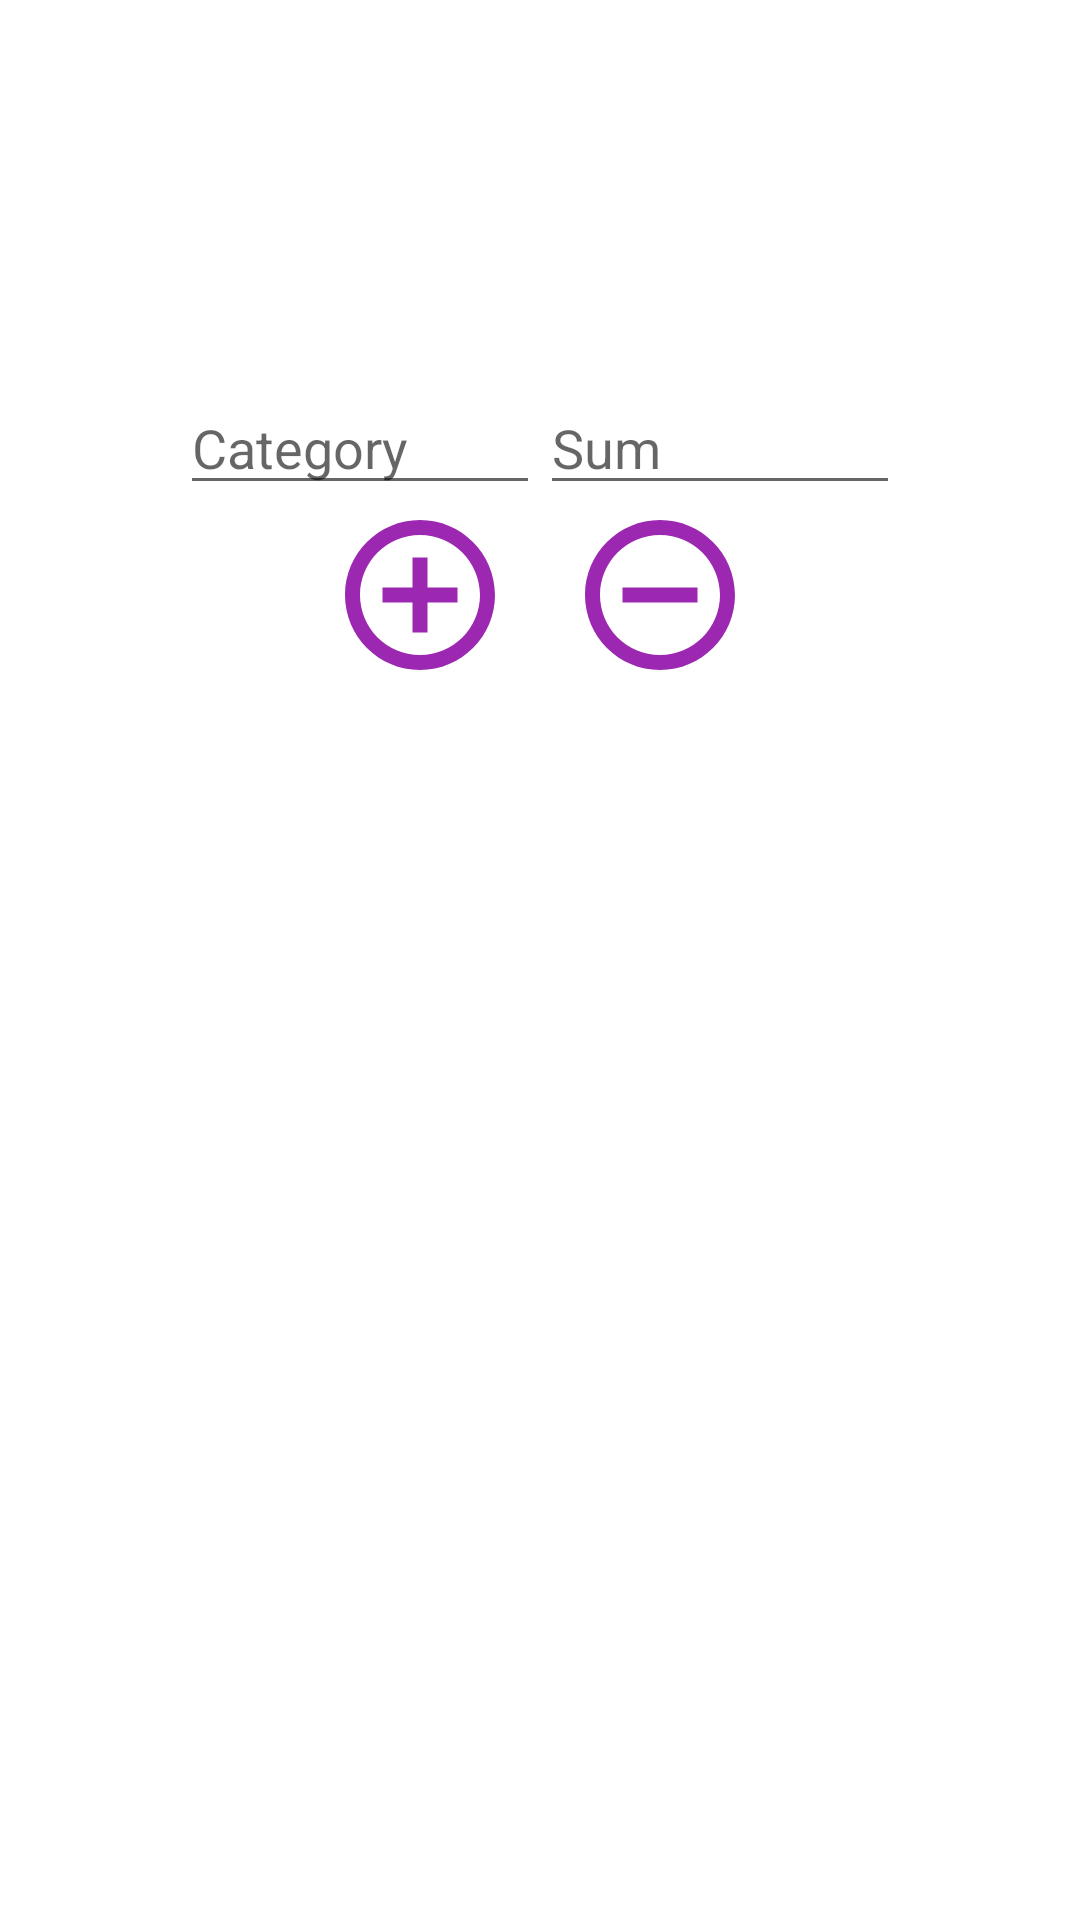

Screen size 1080px x 1920px. Icon name, then its center in pixels as point (x, y):
add circle: point (420, 595)
remove circle: point (660, 595)
